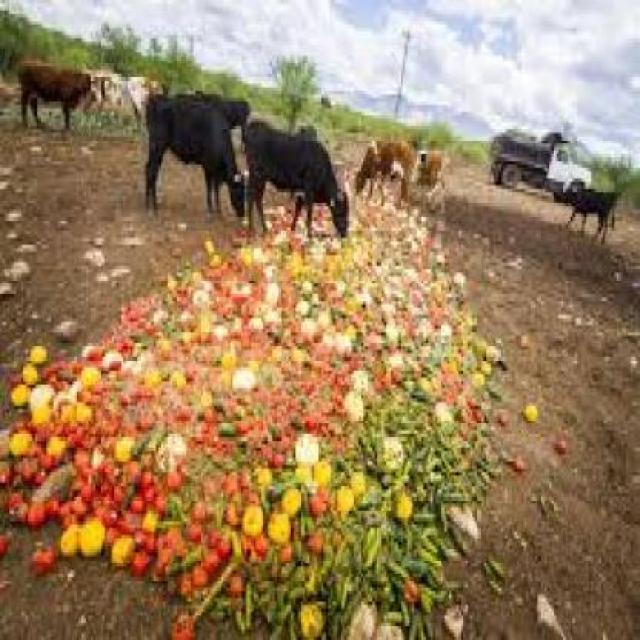garbage: (0, 217, 632, 637)
